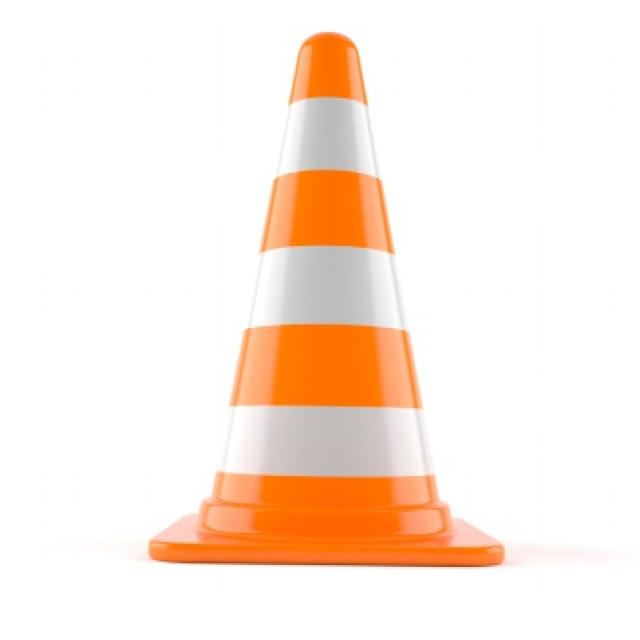cone: (147, 32, 552, 576)
